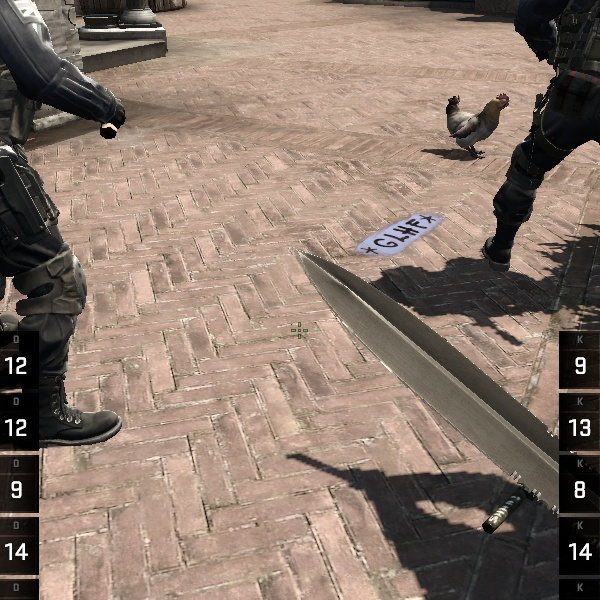ct_body: (466, 0, 594, 292)
